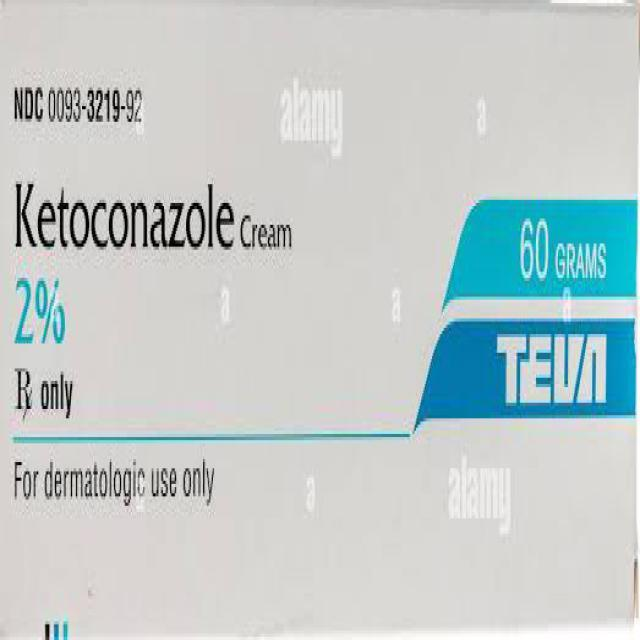drug-name: (13, 172, 239, 260)
